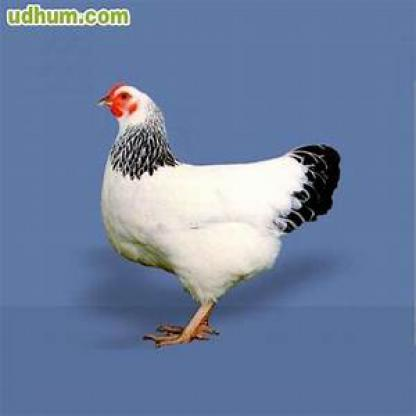chicken: (97, 82, 341, 349)
